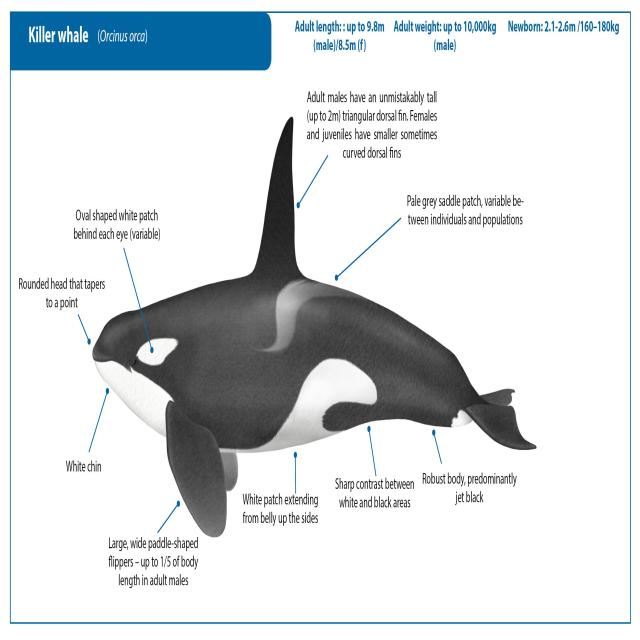whale: (92, 118, 535, 537)
